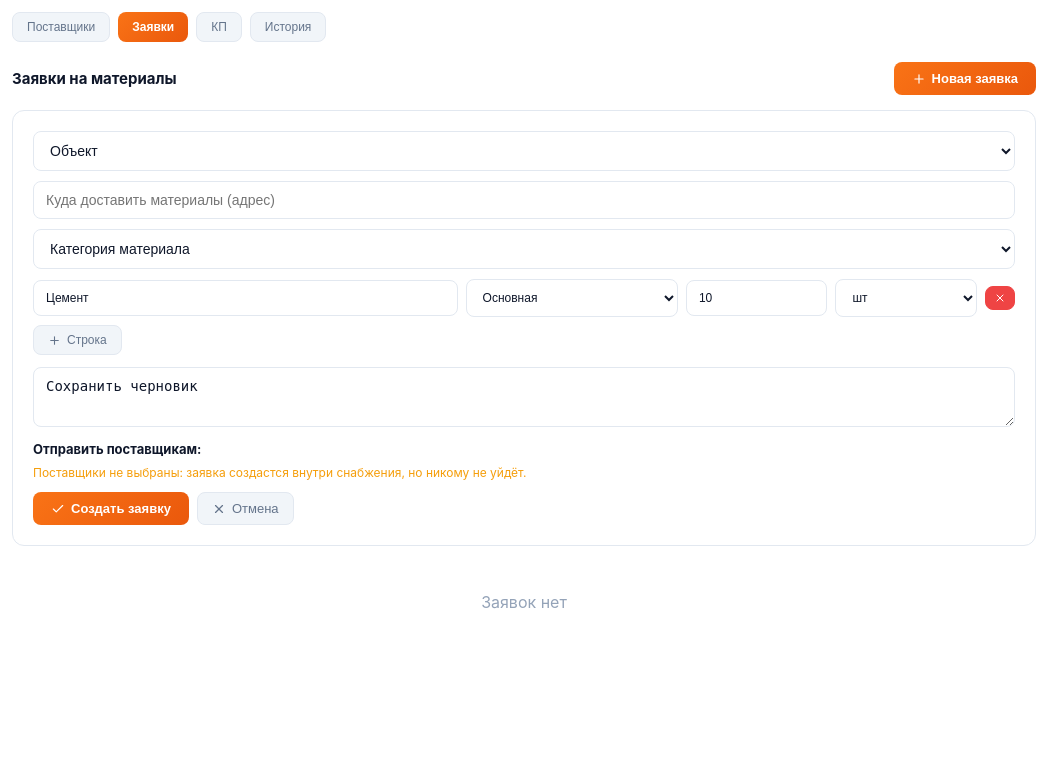
Test: SuppliersPage request submission › handles rejection, retains the draft and allows retry
The image size is (1048, 780).
Click the button "Создать заявку".
click(111, 508)  # box [33,492,189,525]
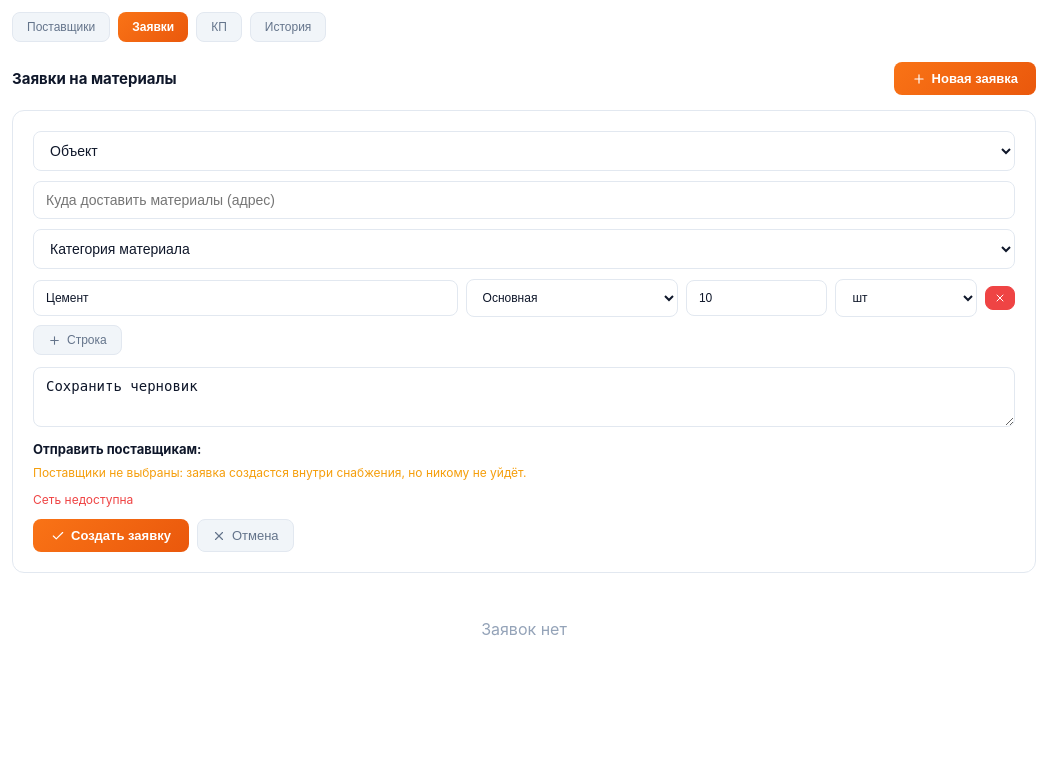
Expected: the field with placeholder "Материал *" holds "Цемент", [33,280,458,316]
Expected: the message reads "Сеть недоступна", [33,492,133,507]
Click the button "Создать заявку".
click(111, 536)  # box [33,519,189,552]
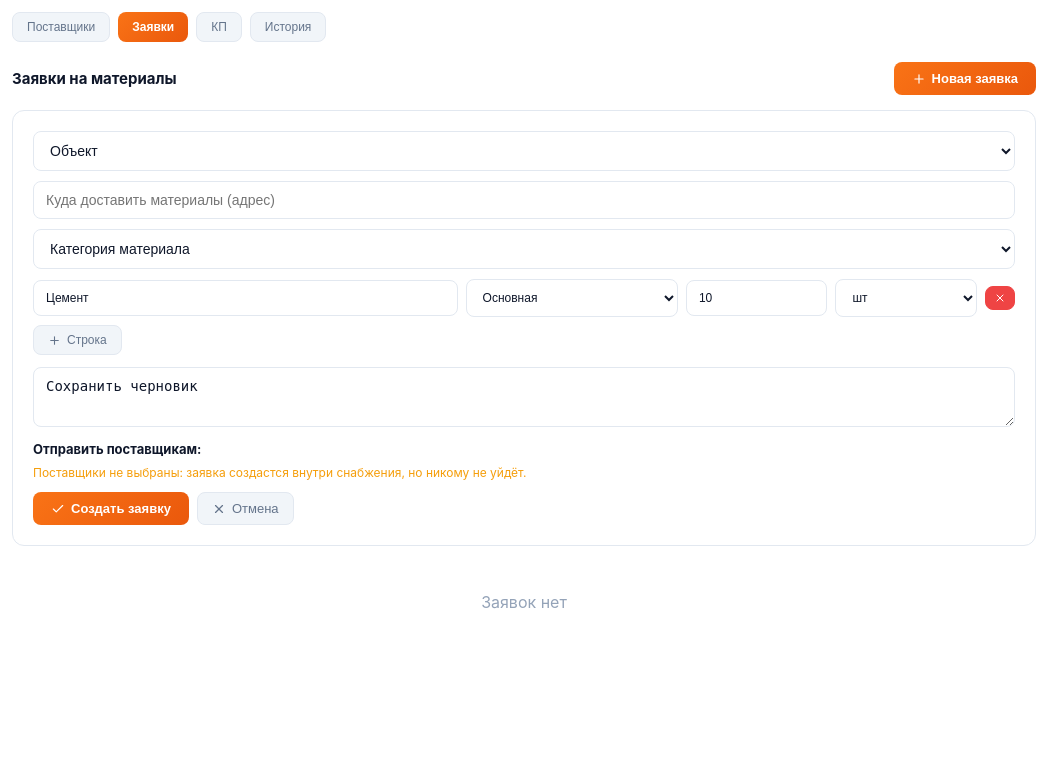
Expected: the button "Создать заявку" is enabled, [33,492,189,525]
Expected: the message "Сеть недоступна" is gone
